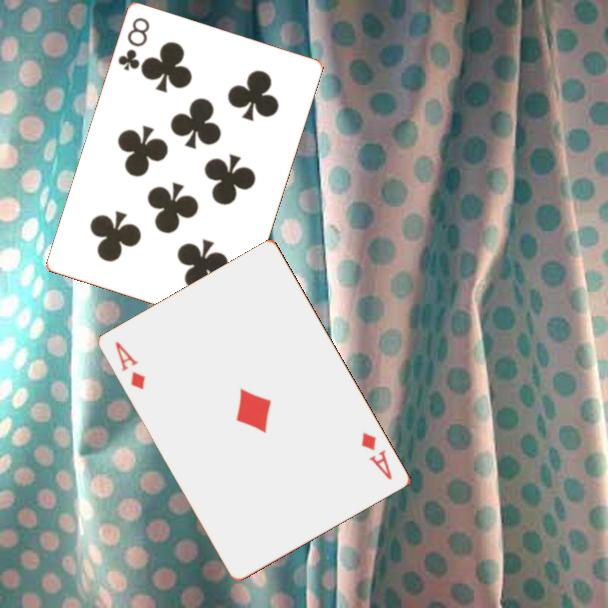c08: (115, 14, 153, 74)
d01: (112, 338, 149, 393), (358, 429, 395, 483)
